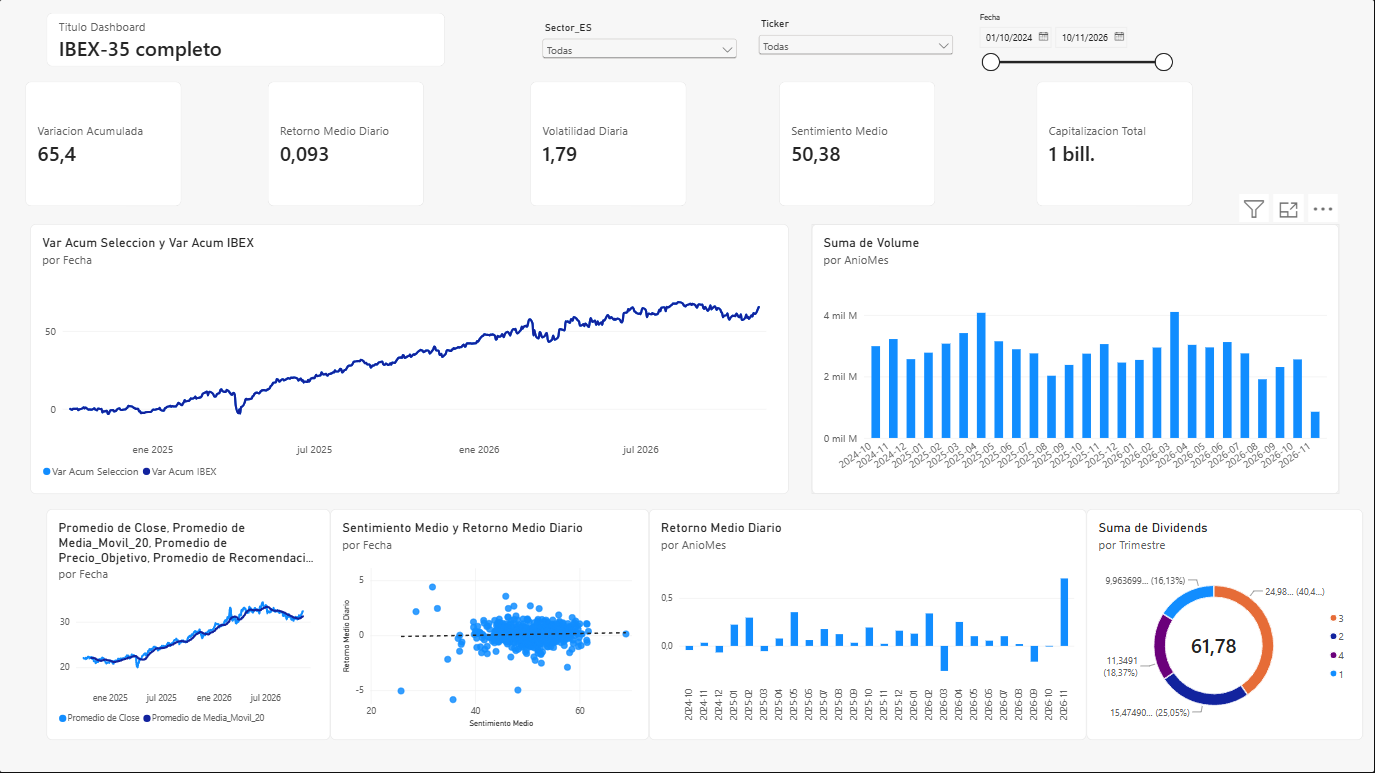

The page's visual inventory and layout, read from the dashboard file:
{"tool":"powerbi","page":{"name":"Dashboard","canvas":[1920,1080],"ordinal":3},"visuals":[{"type":"slicer","fields":{"Values":["Empresa.Sector_ES"]},"box":[753.5,31.4,280.8,68],"z":0},{"type":"slicer","fields":{"Values":["Empresa.Ticker"]},"box":[1055.2,26.2,280.8,80.2],"z":1000},{"type":"slicer","fields":{"Values":["Fecha.Fecha"]},"box":[1360.5,19.2,280.8,95.9],"z":2000},{"type":"cardVisual","fields":{"Data":["Hechos.Variacion Acumulada"]},"box":[36.6,115.1,218,174.4],"z":3000},{"type":"cardVisual","fields":{"Data":["Hechos.Retorno Medio Diario"]},"box":[375,115.1,218,174.4],"z":4000},{"type":"cardVisual","fields":{"Data":["Hechos.Volatilidad Diaria"]},"box":[741.3,115.1,218,174.4],"z":5000},{"type":"cardVisual","fields":{"Data":["Hechos.Sentimiento Medio"]},"box":[1088.4,115.1,218,174.4],"z":6000},{"type":"cardVisual","fields":{"Data":["Hechos.Capitalizacion Total"]},"box":[1447.7,115.1,218,174.4],"z":7000},{"type":"lineChart","fields":{"Category":["Fecha.Fecha"],"Y":["Hechos.Var Acum Seleccion","Hechos.Var Acum IBEX"]},"box":[43.6,314,1058.7,376.7],"z":8000},{"type":"clusteredColumnChart","fields":{"Category":["Fecha.AnioMes"],"Y":["Sum(Hechos.Volume)"]},"box":[1133.7,314,736,376.7],"z":9000},{"type":"lineChart","fields":{"Category":["Fecha.Fecha"],"Y":["Avg(Hechos.Close)","Avg(Hechos.Media_Movil_20)"]},"box":[66.3,711.6,395.9,322.7],"z":10000},{"type":"scatterChart","fields":{"Category":["Fecha.Fecha"],"X":["Hechos.Sentimiento Medio"],"Y":["Hechos.Retorno Medio Diario"]},"box":[462.2,711.6,444.8,322.7],"z":11000},{"type":"clusteredColumnChart","fields":{"Category":["Fecha.AnioMes"],"Y":["Hechos.Retorno Medio Diario"]},"box":[907,711.6,610.5,322.7],"z":12000},{"type":"donutChart","fields":{"Category":["Fecha.Trimestre"],"Y":["Sum(Hechos.Dividends)"]},"box":[1517.4,711.6,385.5,322.7],"z":13000},{"type":"cardVisual","fields":{"Data":["Hechos.Titulo Dashboard"]},"box":[66.3,19.2,556.4,75],"z":13001}]}

Visuals, with their boxes in screenshot pixels (x1, y1, x2, y2), scaled from the page's 1920x1080 canvas onto the 1375x773 screenshot:
slicer - Empresa.Sector_ES: Rect(540, 22, 741, 71)
slicer - Empresa.Ticker: Rect(756, 19, 957, 76)
slicer - Fecha.Fecha: Rect(974, 14, 1175, 82)
cardVisual - Hechos.Variacion Acumulada: Rect(26, 82, 182, 207)
cardVisual - Hechos.Retorno Medio Diario: Rect(269, 82, 425, 207)
cardVisual - Hechos.Volatilidad Diaria: Rect(531, 82, 687, 207)
cardVisual - Hechos.Sentimiento Medio: Rect(779, 82, 936, 207)
cardVisual - Hechos.Capitalizacion Total: Rect(1037, 82, 1193, 207)
lineChart - Fecha.Fecha x Hechos.Var Acum Seleccion: Rect(31, 225, 789, 494)
clusteredColumnChart - Fecha.AnioMes x Sum(Hechos.Volume): Rect(812, 225, 1339, 494)
lineChart - Fecha.Fecha x Avg(Hechos.Close): Rect(47, 509, 331, 740)
scatterChart - Fecha.Fecha x Hechos.Sentimiento Medio: Rect(331, 509, 650, 740)
clusteredColumnChart - Fecha.AnioMes x Hechos.Retorno Medio Diario: Rect(650, 509, 1087, 740)
donutChart - Fecha.Trimestre x Sum(Hechos.Dividends): Rect(1087, 509, 1363, 740)
cardVisual - Hechos.Titulo Dashboard: Rect(47, 14, 446, 67)
